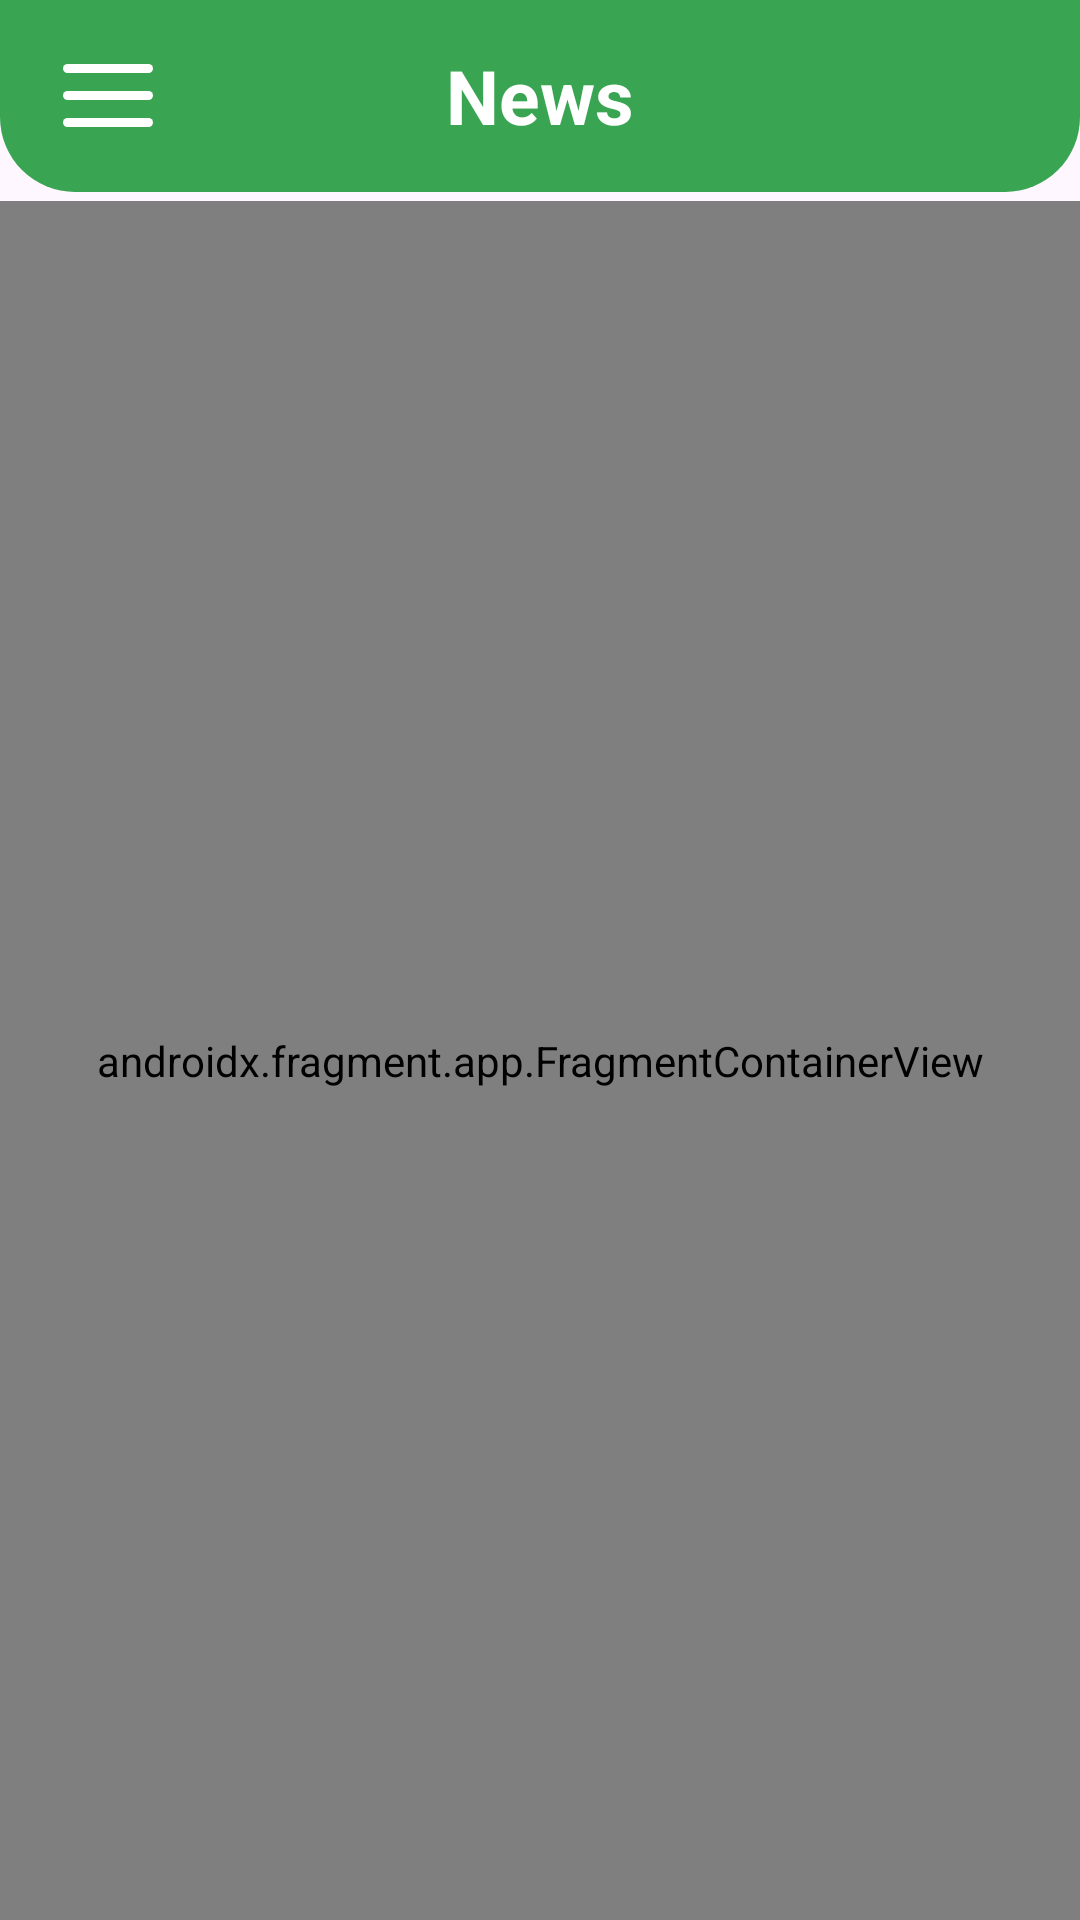

Icon bounding boxes for this 1080w x 1920h phone screenshot, format bbox=[x1, y1, x2, y2]:
menu: bbox=[63, 64, 153, 127]
